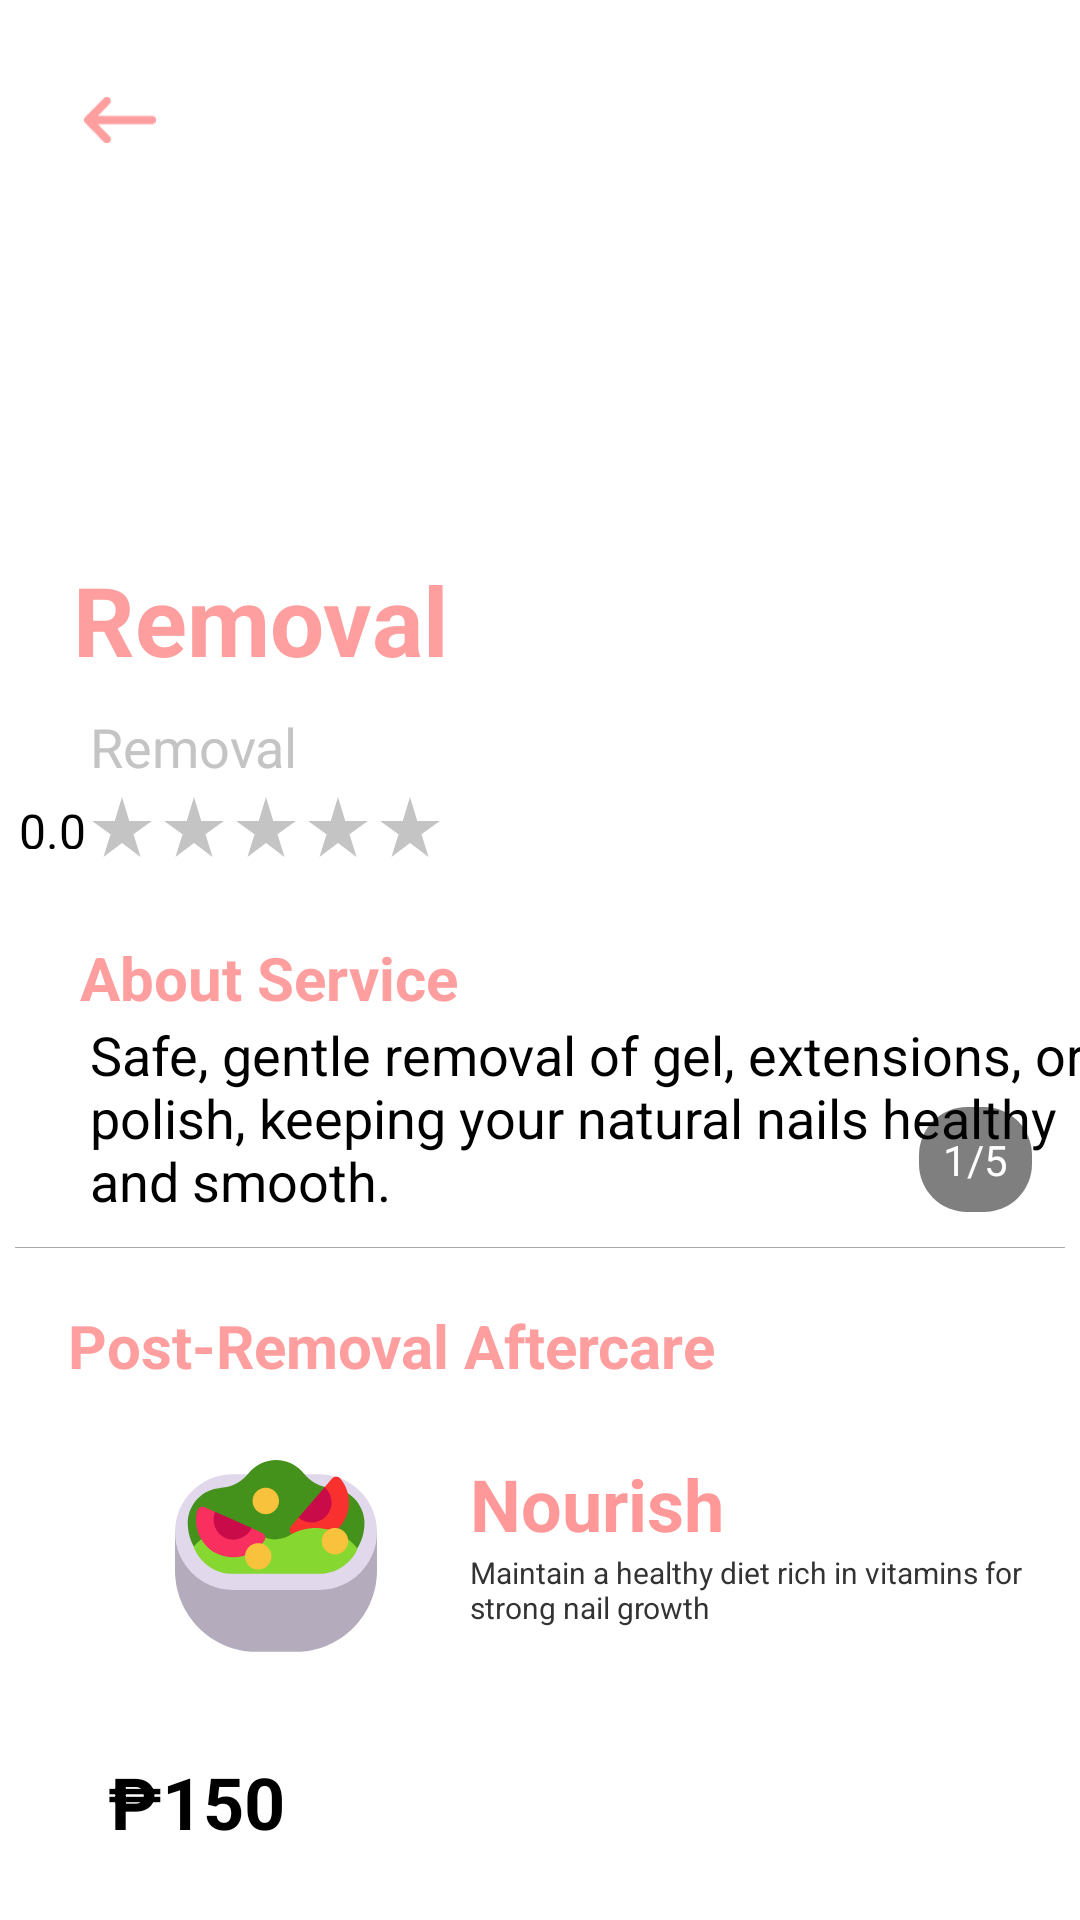

Icons on this 1080 × 1920 Android screen, each with its box as (x1, y1, x2, y2):
backarrow: (84, 97, 156, 143)
starwithoutfill: (93, 798, 151, 856), (165, 798, 223, 856), (237, 798, 295, 856), (309, 798, 367, 856), (381, 798, 439, 856)
